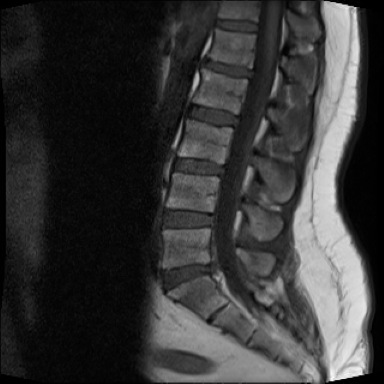Degenerative Disc Disease (DDD): (197, 51, 261, 80)
Lumbar Disc Bulge (LDB): (155, 254, 224, 294)
Normal IVD: (181, 96, 246, 130), (156, 199, 223, 231), (168, 148, 233, 179), (210, 13, 264, 29)
Spinal Stenosis (SS): (204, 249, 229, 279)
